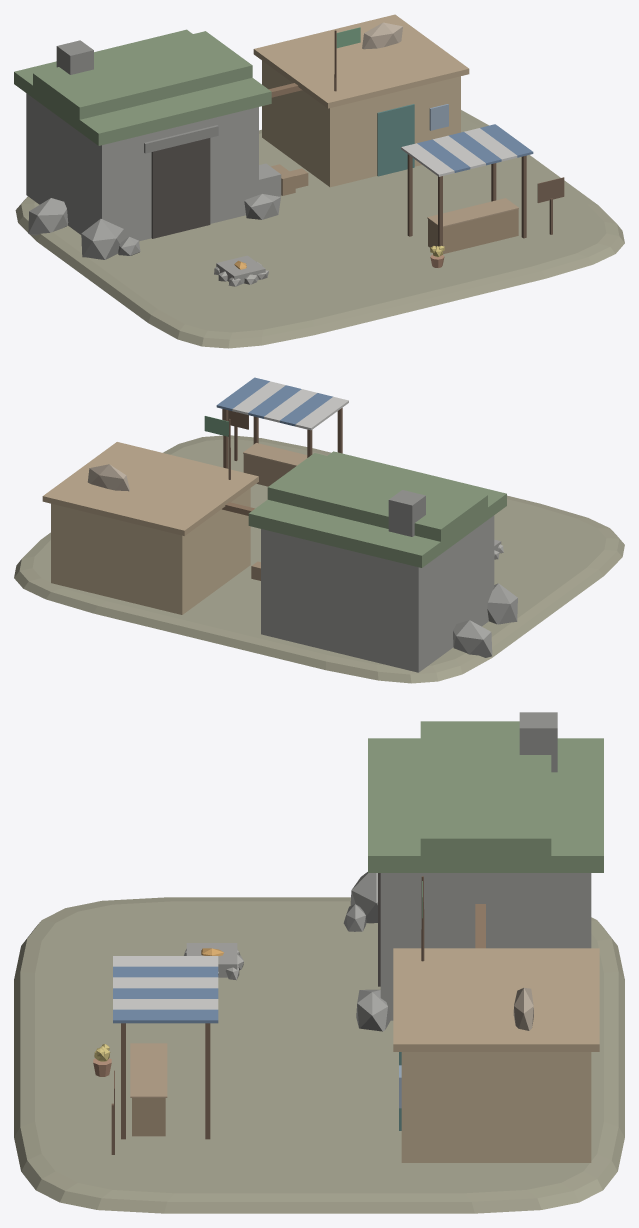
Rendered from set.glb.
The picture shows the model from 3 angles, top to bottom: view 1: azimuth 30°, elevation 25°; view 2: azimuth 150°, elevation 25°; view 3: azimuth 270°, elevation 25°; orthographic projection. The views are drawn at different scales.
Parts seen in each view (by area): view 1: settlement; view 2: settlement; view 3: settlement.
Boxes of the visible parts, <box> form: settlement: <box>14,14,624,348</box>; settlement: <box>14,377,624,683</box>; settlement: <box>14,712,624,1213</box>.
Bounding box in the file's own units: 17.57 × 6.11 × 14.5.
